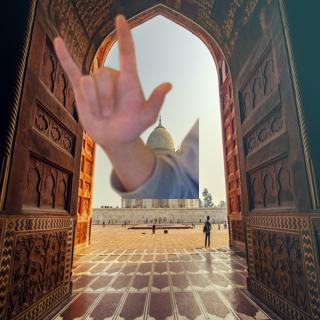ILY: (51, 12, 176, 150)
